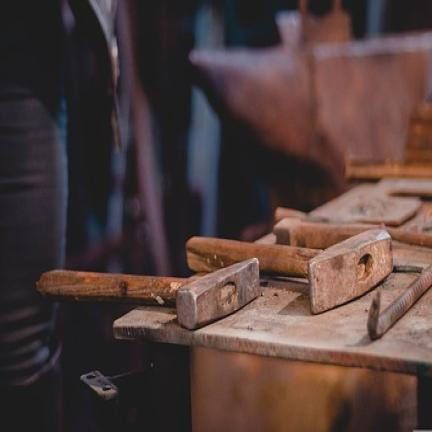karat: (39, 229, 393, 330)
